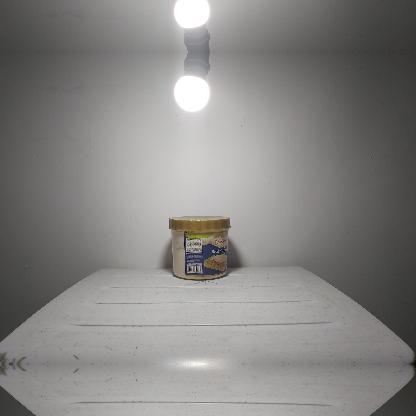Lady-s-Choice: (168, 215, 230, 279)
